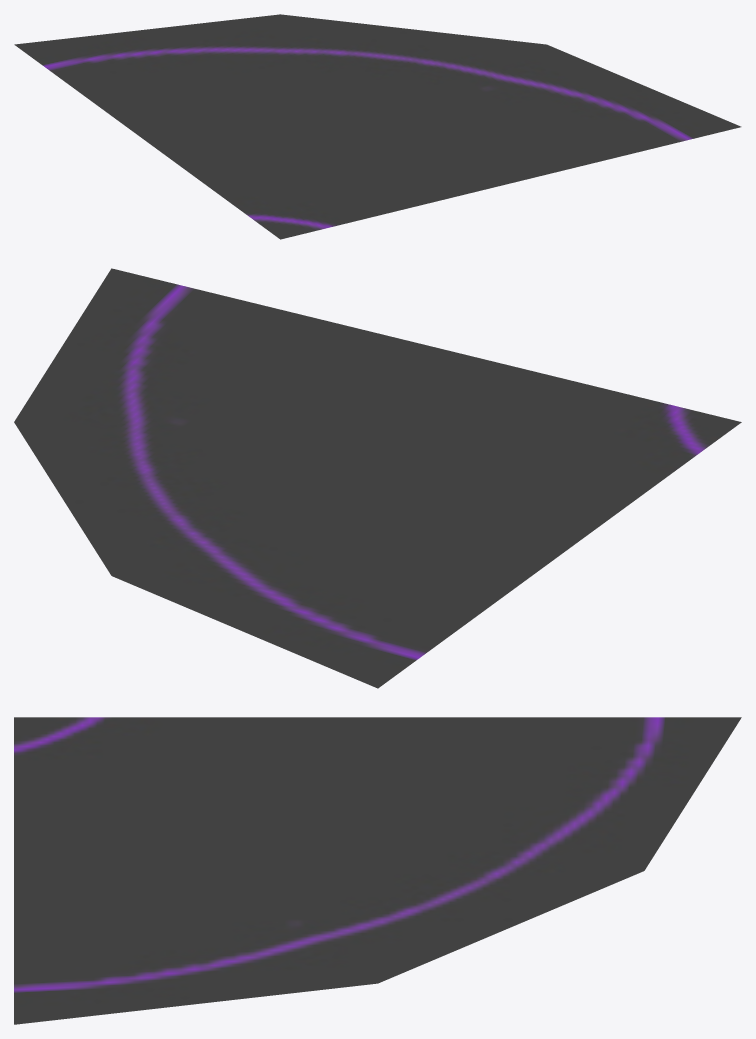
File: Yuka_B_01.fbx
3 views of the same model, one above another, from view 1: azimuth 30°, elevation 25°; view 2: azimuth 150°, elevation 25°; view 3: azimuth 270°, elevation 25° (orthographic). The views are drawn at different scales.
Visible parts, largest first — view 1: Yuka_B_01; view 2: Yuka_B_01; view 3: Yuka_B_01.
Boxes of the visible parts, x1,y1,x2,y2 form: Yuka_B_01: (14, 14, 741, 239); Yuka_B_01: (14, 268, 741, 688); Yuka_B_01: (14, 717, 741, 1024).
Bounding box in the file's own units: 598 × 0 × 598.
Materials: 1 (1 with a texture image).
